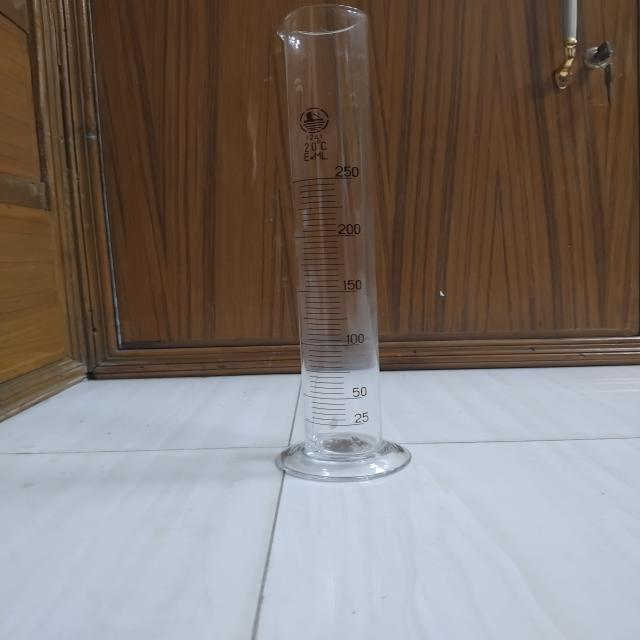Measuring_Cylinder: (242, 0, 450, 502)
